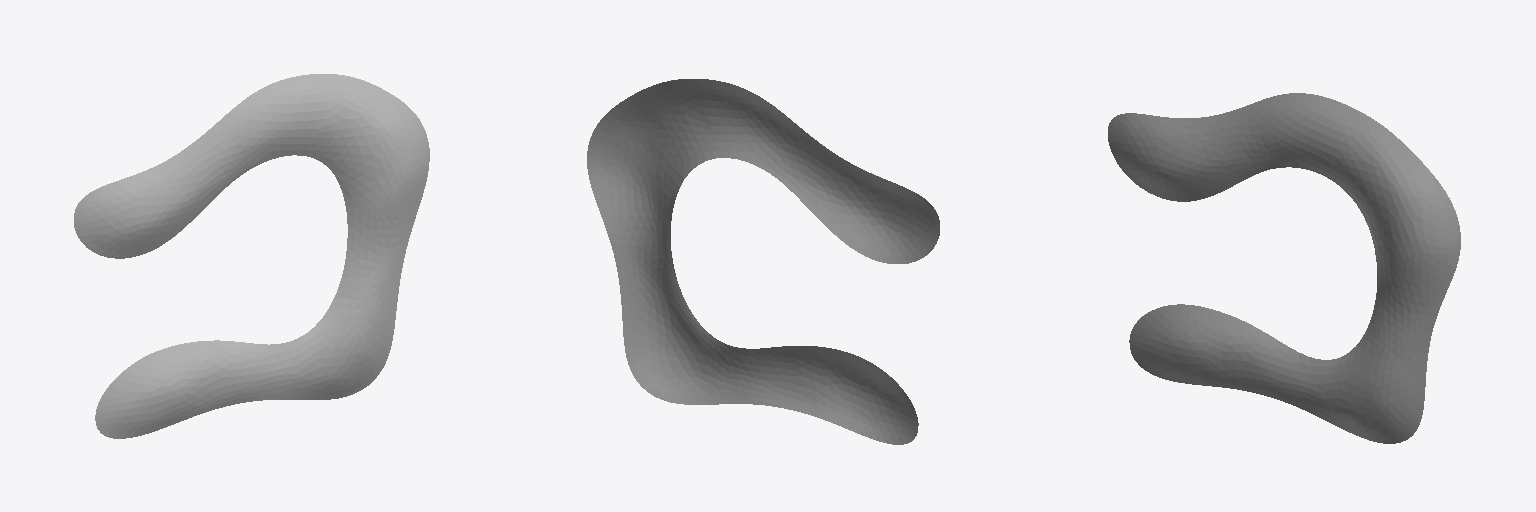
The model's file is mall2_opt_deformed_(1).obj.
The picture shows the model from 3 angles: view 1: azimuth 30°, elevation 25°; view 2: azimuth 150°, elevation 25°; view 3: azimuth 330°, elevation 25°; orthographic projection.
Parts seen in each view (by area): view 1: samples/mall2_opt_deformed; view 2: samples/mall2_opt_deformed; view 3: samples/mall2_opt_deformed.
Boxes of the visible parts, x1=… form: samples/mall2_opt_deformed: x1=74, y1=74, x2=429, y2=438; samples/mall2_opt_deformed: x1=587, y1=79, x2=939, y2=444; samples/mall2_opt_deformed: x1=1108, y1=93, x2=1460, y2=443.
Size of the model in its own units: 234 by 210 by 11.61.